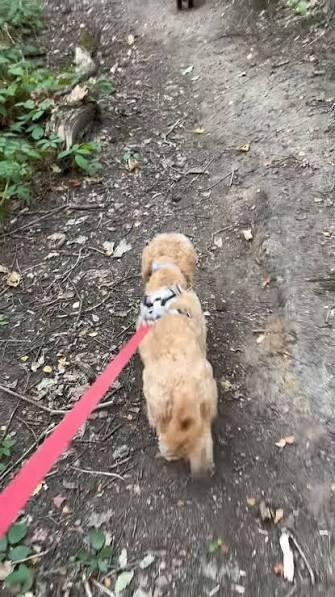adult_dog: (133, 230, 220, 479)
